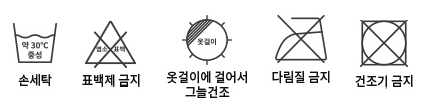KR_hand_wash_30_neutral: (10, 20, 60, 68)
KR_hang_dry_in_shade: (178, 14, 235, 67)
KR_no_chlorine_bleach: (80, 17, 140, 66)
KR_no_iron: (268, 9, 329, 65)
KR_no_tumble_dry: (356, 17, 412, 69)
